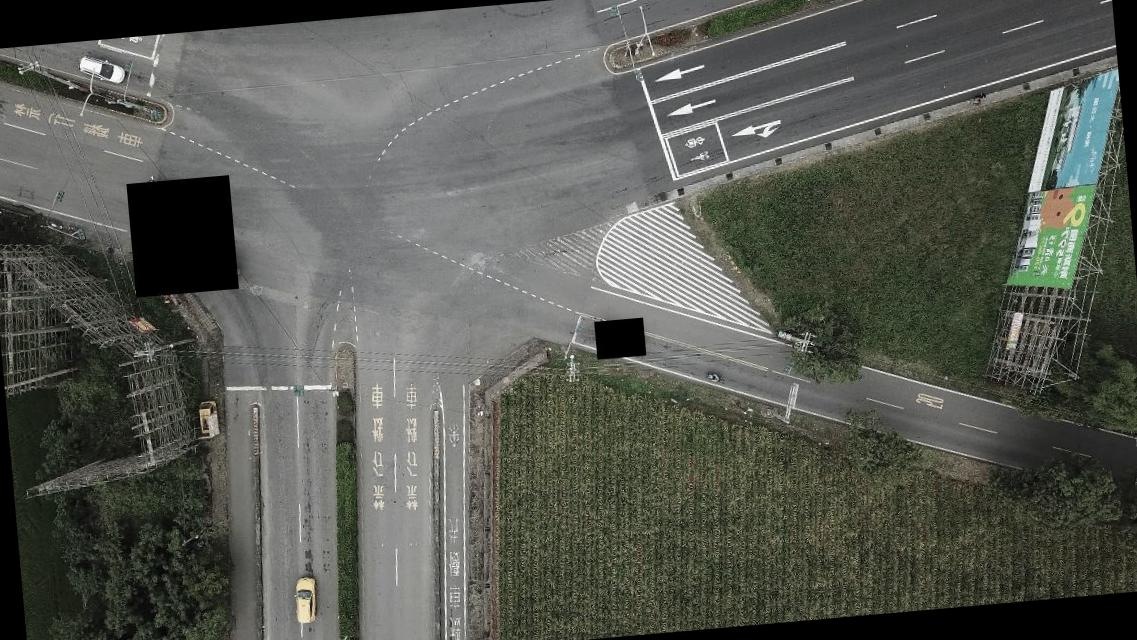vehicle: (76, 53, 127, 90), (290, 575, 318, 629), (196, 400, 219, 435)
